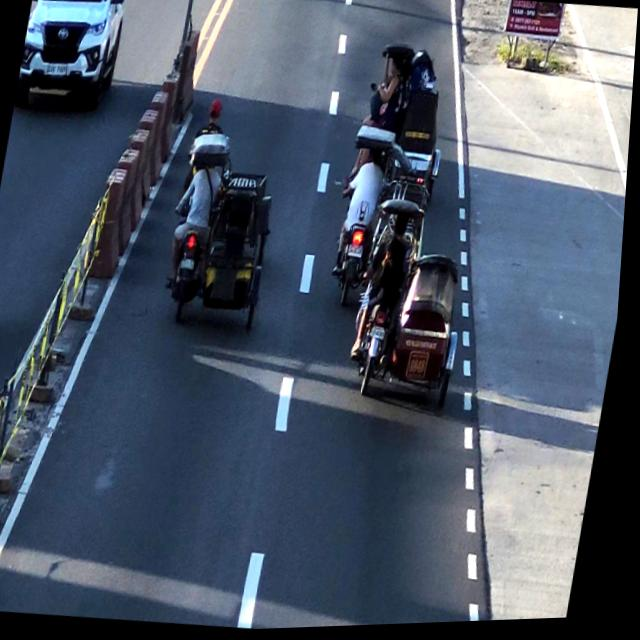License-Plate: (346, 243, 368, 263), (374, 324, 393, 343), (181, 258, 199, 275)
Tricycle: (346, 198, 488, 428), (159, 132, 293, 336), (331, 126, 444, 301), (361, 48, 454, 137)
